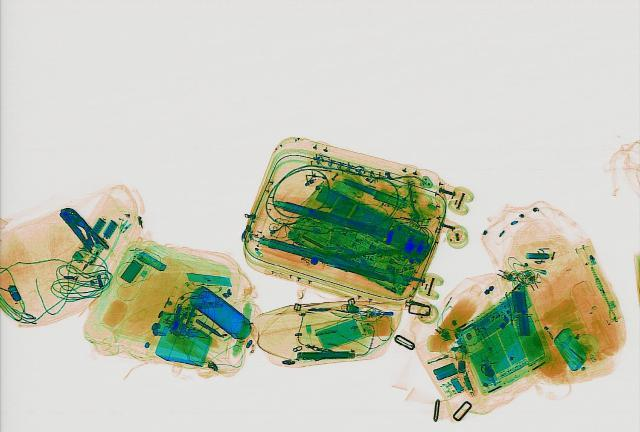Pliers: (50, 204, 110, 252)
